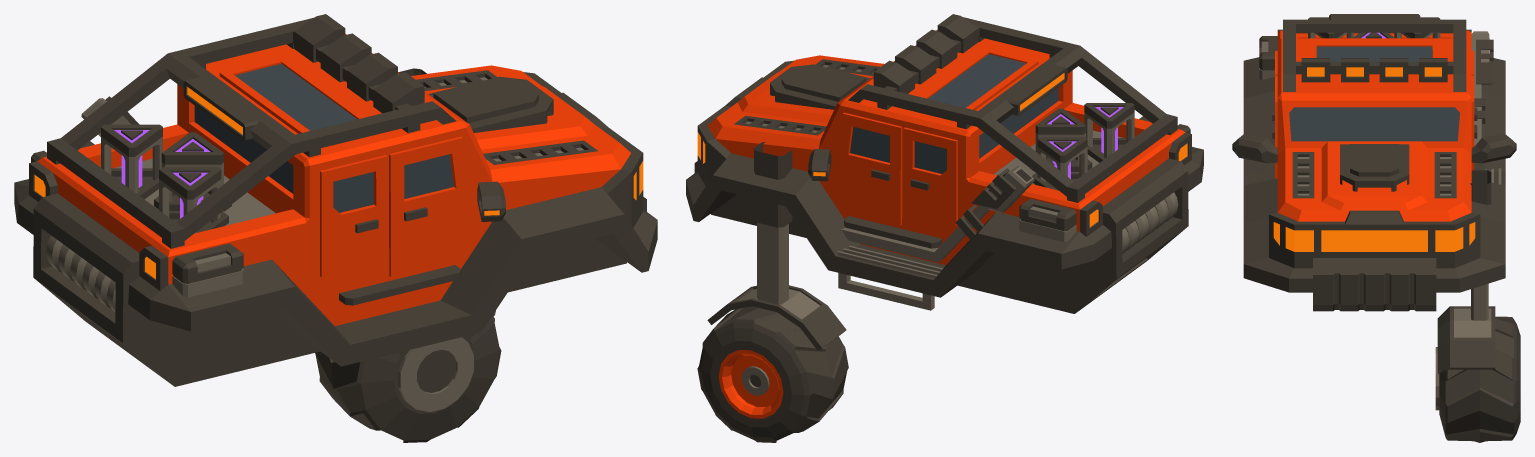
3 renders of one model, left to right at view 1: azimuth 30°, elevation 25°; view 2: azimuth 150°, elevation 25°; view 3: azimuth 270°, elevation 25°, orthographic. The views are drawn at different scales.
Parts seen in each view (by area): view 1: common, bodyPainted.001, wheel.006, wheelGuard.001, energy.001, cellsCage.003, cellsCage.005, cellsCage.004, stopLights.001; view 2: common, bodyPainted.001, wheel.006, wheelSuspension.002, wheelGuard.001, wheelPainted, energy.001, cellsCage.005, cellsCage.003, cellsCage.004, stopLights.001; view 3: common, bodyPainted.001, wheel.006, headlights.001, wheelGuard.001, wheelSuspension.002, energy.001, cellsCage.003, cellsCage.005.
Part boxes in pixels (bbox=[...]): common: bbox=[14, 14, 657, 386]; bodyPainted.001: bbox=[37, 33, 630, 325]; wheel.006: bbox=[315, 317, 501, 442]; wheelGuard.001: bbox=[397, 310, 495, 411]; energy.001: bbox=[46, 77, 583, 311]; cellsCage.003: bbox=[101, 124, 162, 193]; cellsCage.005: bbox=[159, 167, 221, 233]; cellsCage.004: bbox=[161, 132, 223, 201]; stopLights.001: bbox=[34, 87, 242, 278]; common: bbox=[686, 14, 1203, 313]; bodyPainted.001: bbox=[707, 30, 1185, 264]; wheel.006: bbox=[697, 306, 848, 442]; wheelSuspension.002: bbox=[754, 142, 792, 304]; wheelGuard.001: bbox=[707, 285, 846, 350]; wheelPainted: bbox=[718, 350, 783, 418]; energy.001: bbox=[745, 65, 1178, 253]; cellsCage.005: bbox=[1084, 103, 1134, 157]; cellsCage.003: bbox=[1037, 137, 1087, 190]; cellsCage.004: bbox=[1035, 108, 1085, 164]; stopLights.001: bbox=[1020, 73, 1187, 227]; common: bbox=[1232, 14, 1516, 311]; bodyPainted.001: bbox=[1275, 30, 1474, 221]; wheel.006: bbox=[1439, 316, 1520, 442]; headlights.001: bbox=[1285, 67, 1463, 251]; wheelGuard.001: bbox=[1435, 306, 1495, 410]; wheelSuspension.002: bbox=[1470, 170, 1491, 320]; energy.001: bbox=[1261, 41, 1451, 195]; cellsCage.003: bbox=[1394, 17, 1440, 38]; cellsCage.005: bbox=[1308, 17, 1354, 38].
Size of the model in its own units: 2.99 by 2.48 by 1.91.
6 materials, 1 textured.
